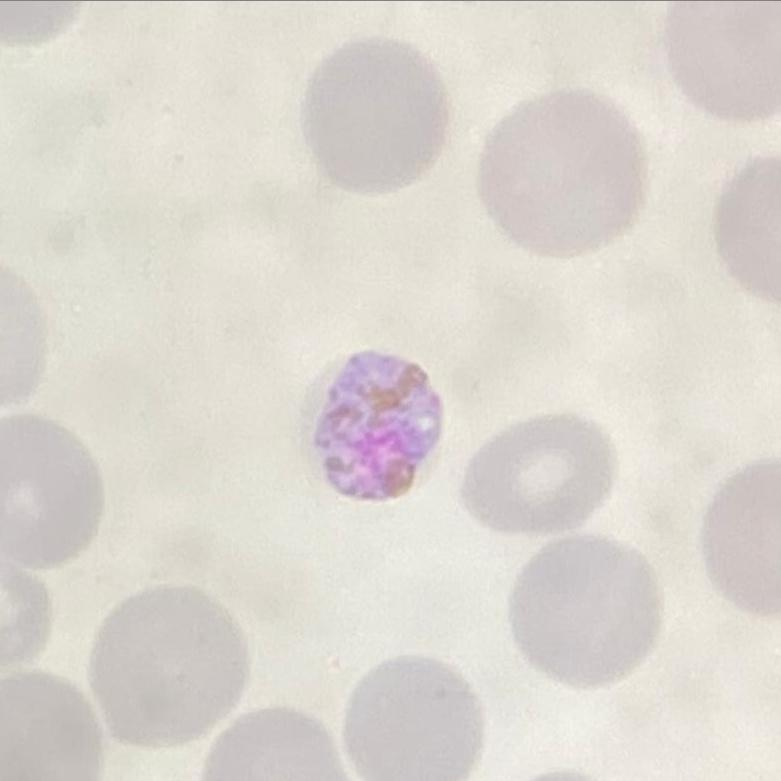Infected: (313, 349, 442, 505)
Uninfected: (482, 86, 648, 252), (88, 582, 251, 743), (513, 531, 664, 688), (307, 36, 447, 194), (463, 416, 622, 533), (342, 654, 481, 781)
